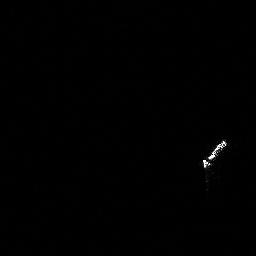ship: (198, 135, 230, 172)
